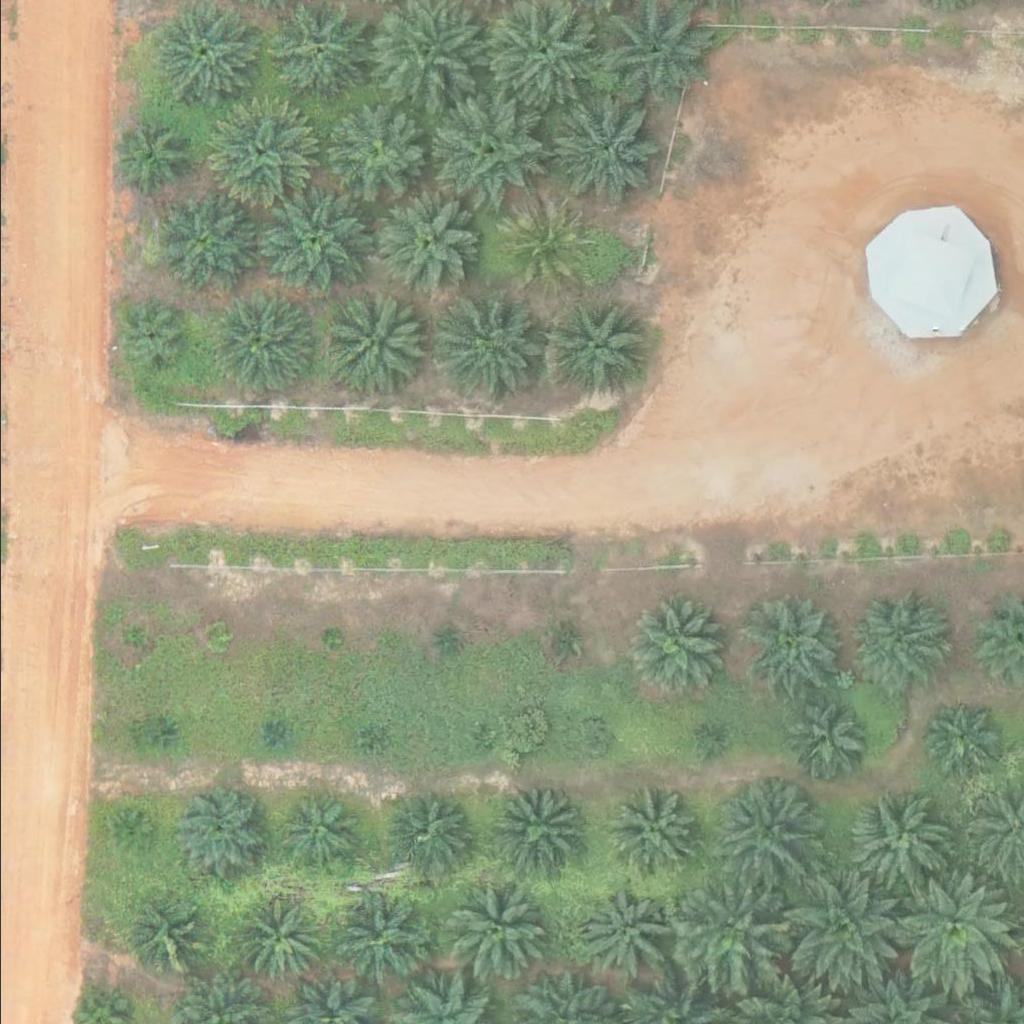Kelapa_Sawit: (709, 774, 823, 887), (546, 98, 660, 211), (430, 96, 544, 209), (258, 185, 371, 298), (781, 874, 895, 986), (675, 877, 789, 989), (197, 98, 310, 210), (892, 873, 1005, 985), (161, 774, 274, 886), (432, 293, 545, 405), (850, 587, 951, 687), (443, 880, 544, 980), (331, 888, 432, 988), (739, 595, 840, 695), (631, 593, 732, 693), (544, 295, 645, 395), (152, 192, 253, 292), (261, 1, 362, 101), (154, 5, 255, 105), (845, 792, 945, 892), (325, 290, 425, 390), (211, 295, 311, 395), (372, 196, 472, 296), (322, 102, 422, 202), (274, 792, 363, 880), (383, 789, 471, 877), (231, 898, 319, 986), (494, 201, 582, 289), (578, 890, 666, 977), (611, 790, 699, 877), (489, 783, 577, 870), (782, 696, 870, 783), (113, 301, 189, 376), (922, 703, 998, 778), (126, 905, 201, 980), (108, 119, 183, 194), (569, 721, 607, 759), (114, 814, 152, 852), (697, 734, 722, 759), (467, 730, 492, 755), (351, 724, 376, 749), (547, 630, 572, 655), (434, 630, 459, 655), (316, 626, 341, 651), (204, 622, 229, 647), (120, 625, 145, 650), (262, 725, 287, 750), (152, 718, 177, 743)
